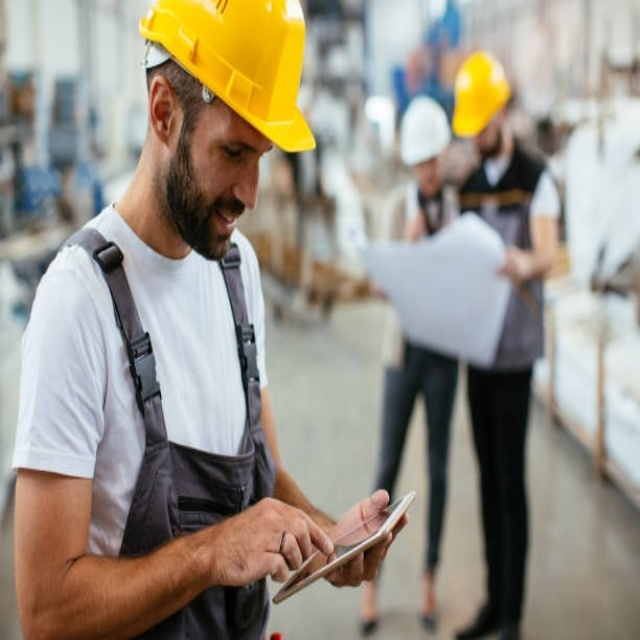Sin_gafas: (200, 119, 277, 177)
Sin_guantes: (204, 483, 337, 588), (320, 489, 406, 587)
Sin_mascara: (198, 199, 254, 254)
